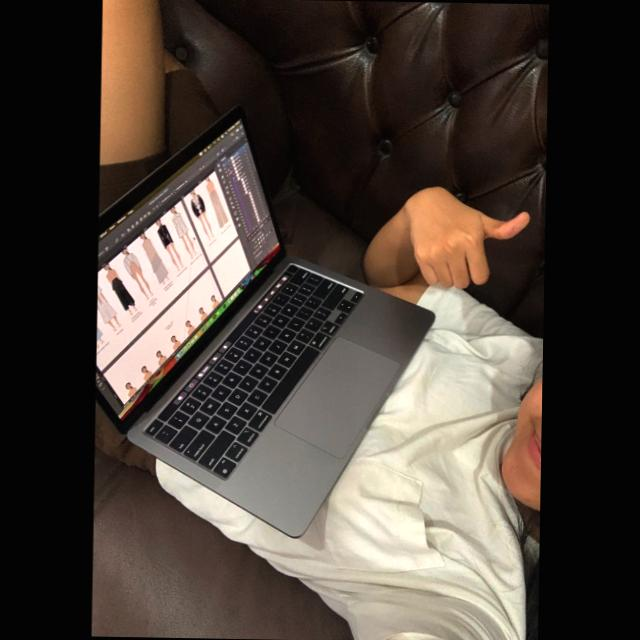laptop: (96, 107, 434, 536)
